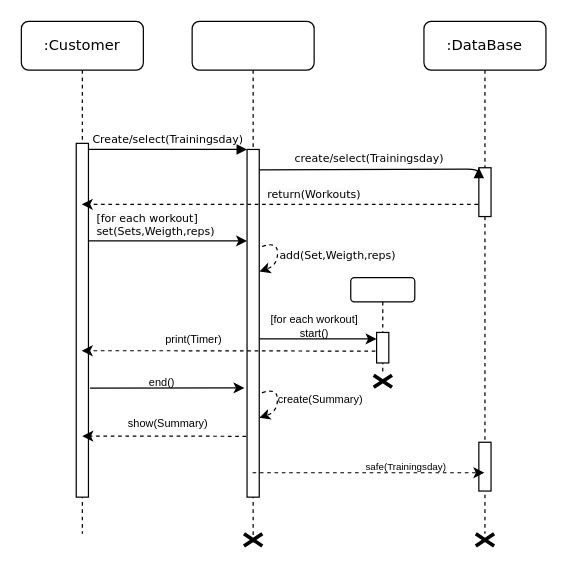
The diagram is 567 pixels wide and 569 high, and some of its shapes have lost their labels. The box of each missing label's shape, as (x1, y1, x2, y2) in pixels:
:Order: (191, 20, 314, 546)
:Timer: (350, 276, 415, 375)
